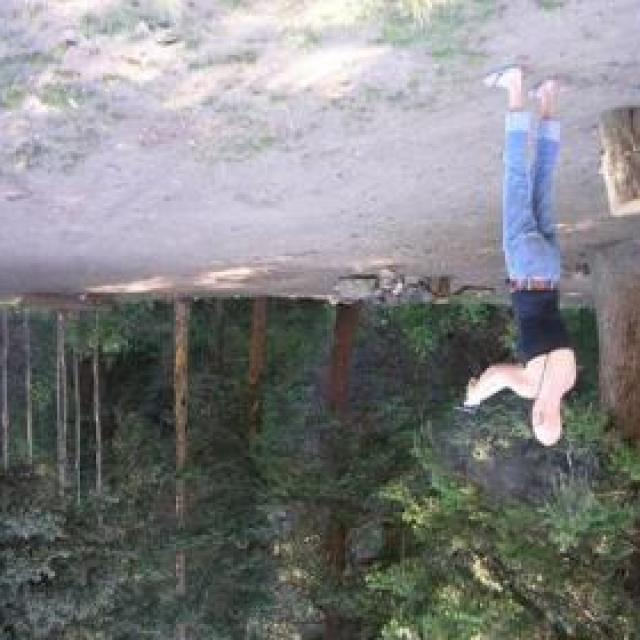pistol: (451, 384, 480, 418)
